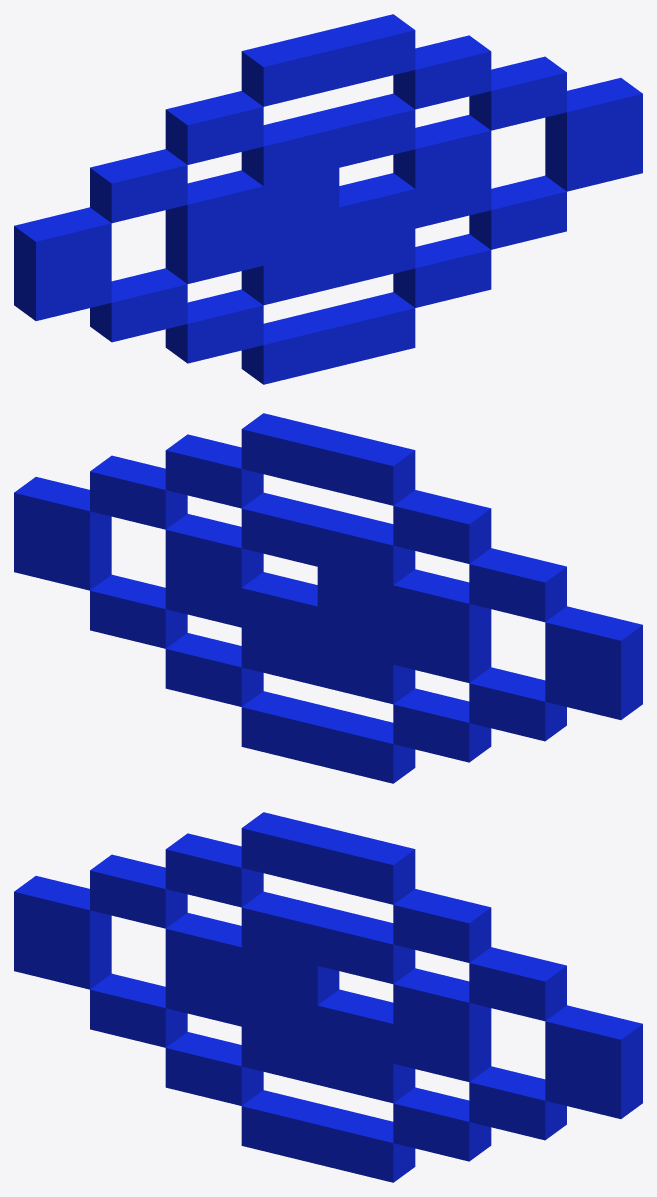
File: Eyes-Blue.vox.obj
3 views of the same model, one above another, from view 1: azimuth 30°, elevation 25°; view 2: azimuth 150°, elevation 25°; view 3: azimuth 330°, elevation 25° (orthographic).
Size of the model in its own units: 1.6 by 0.8 by 0.1.
1 material, 1 textured.
